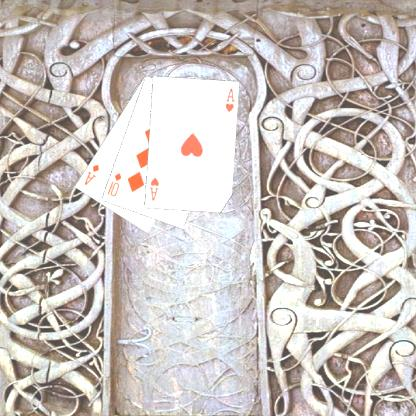10D: (107, 170, 124, 198)
AD: (83, 161, 102, 187)
AH: (148, 175, 162, 202), (224, 86, 238, 113)
